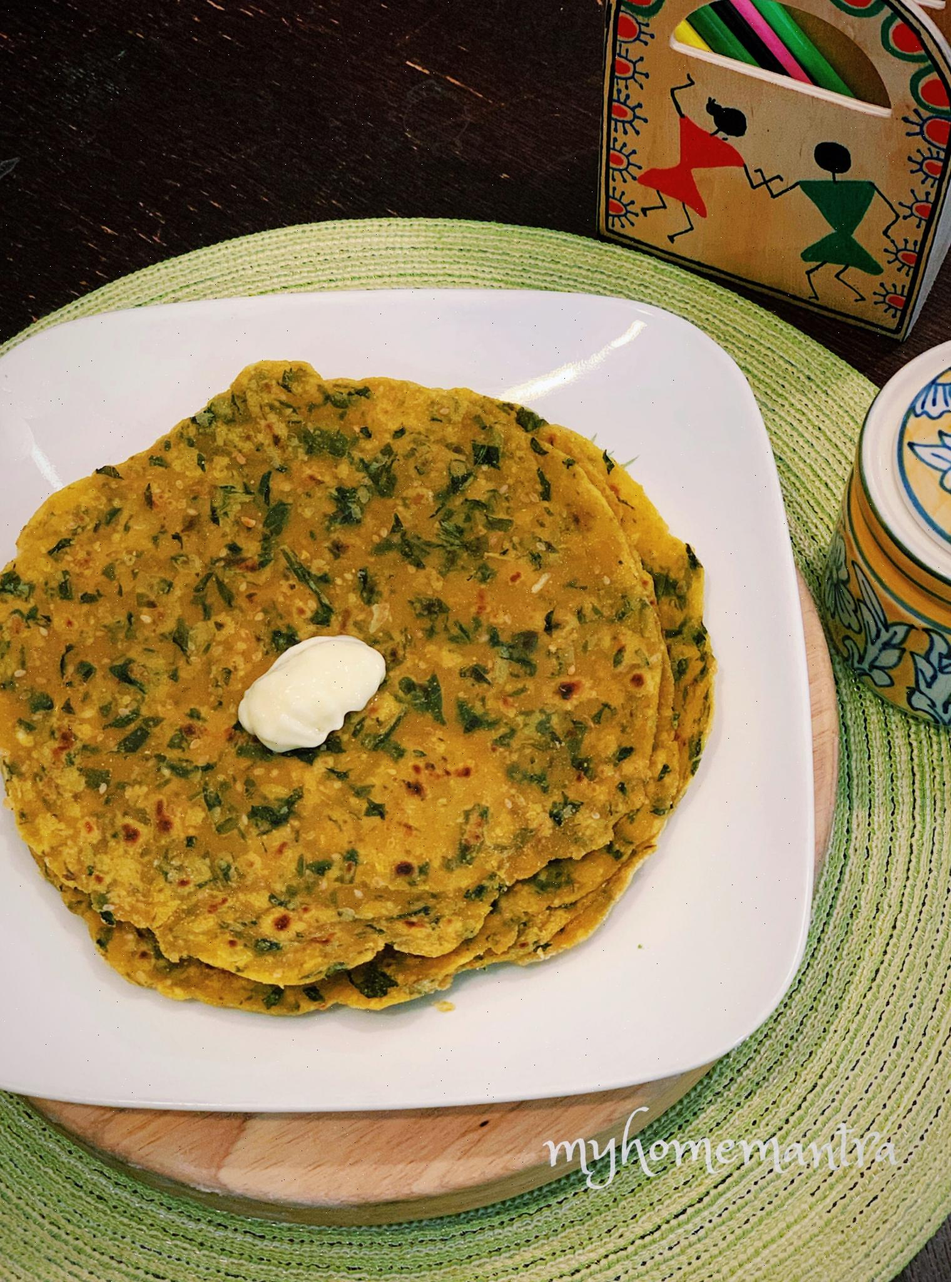thepla: (44, 383, 662, 1015)
